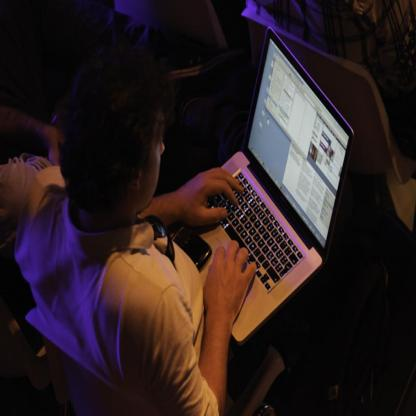board: (172, 28, 355, 343)
